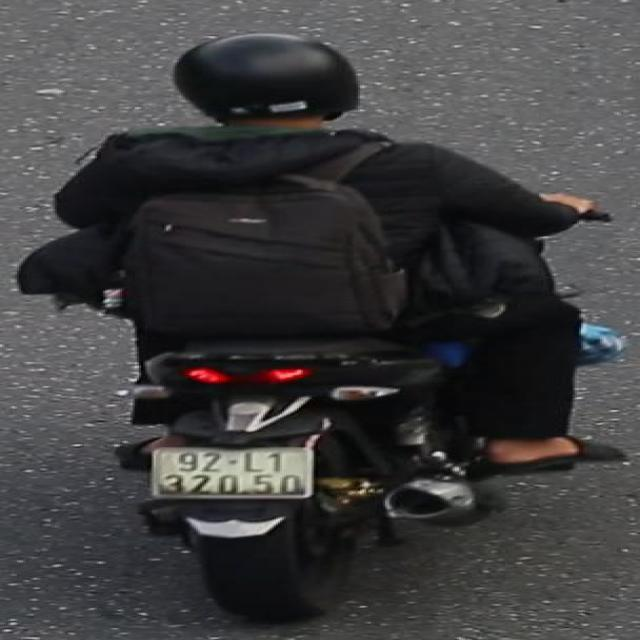LP: (139, 442, 318, 505)
helmet: (164, 29, 373, 147)
